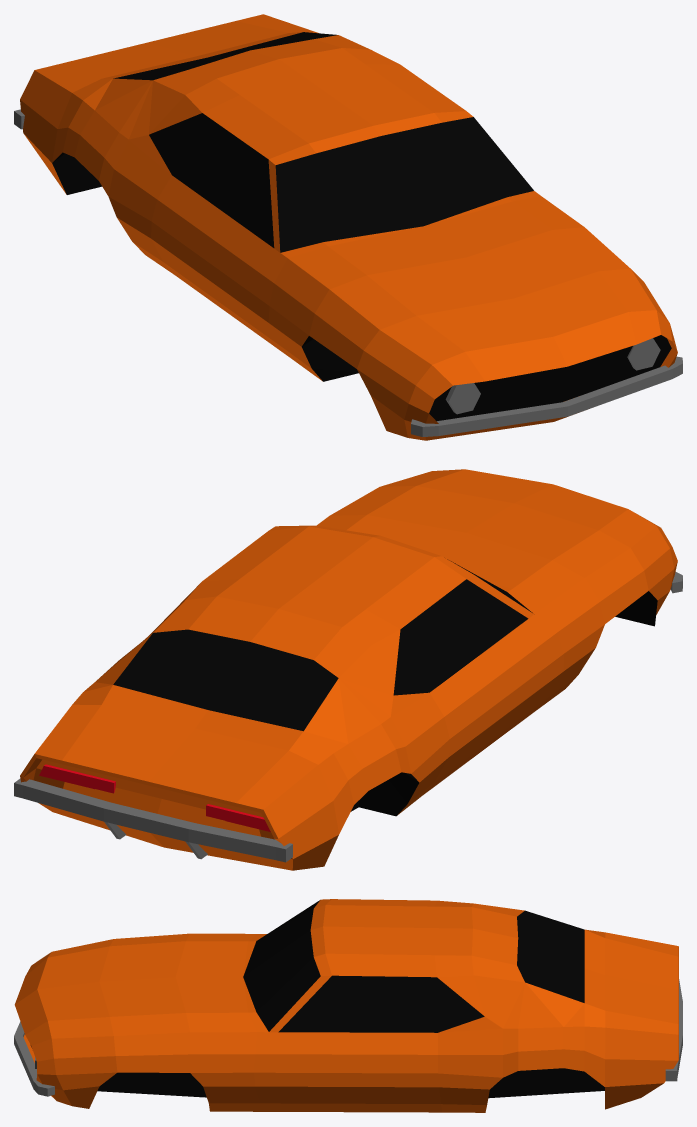
Rendered from Camaro_body.glb.
3 renders of one model, top to bottom at view 1: azimuth 30°, elevation 25°; view 2: azimuth 150°, elevation 25°; view 3: azimuth 270°, elevation 25°, orthographic. The views are drawn at different scales.
Parts seen in each view (by area): view 1: Body; view 2: Body; view 3: Body.
Boxes of the visible parts, x1=… form: Body: x1=14, y1=14, x2=682, y2=440; Body: x1=14, y1=469, x2=682, y2=870; Body: x1=14, y1=899, x2=682, y2=1112.
Bounding box in the file's own units: 1.31 × 0.7204 × 3.16.
